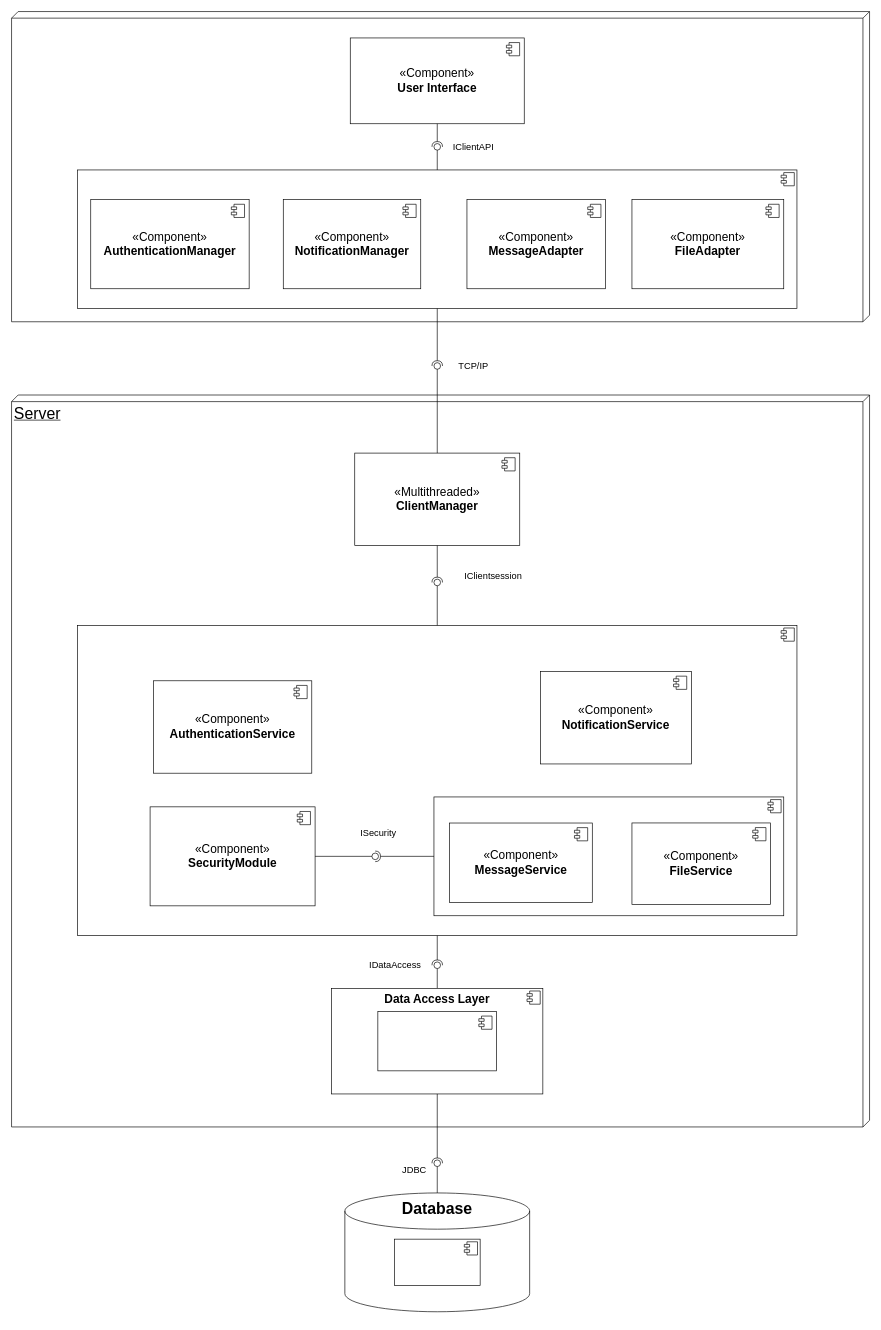
Some shapes in this 881 by 1330 pixel diagram are drawn without their labels. Here are the shapes that lost their labels. From the top down, the box of each, then its label:
(11, 11, 870, 322): Client (APP)
(77, 169, 797, 309): API
(77, 625, 797, 936): Business Core Logic
(433, 796, 784, 916): ChatServer
(377, 1011, 497, 1071): «Component» DatabaseHandler
(394, 1238, 480, 1285): DBMS SQLite
